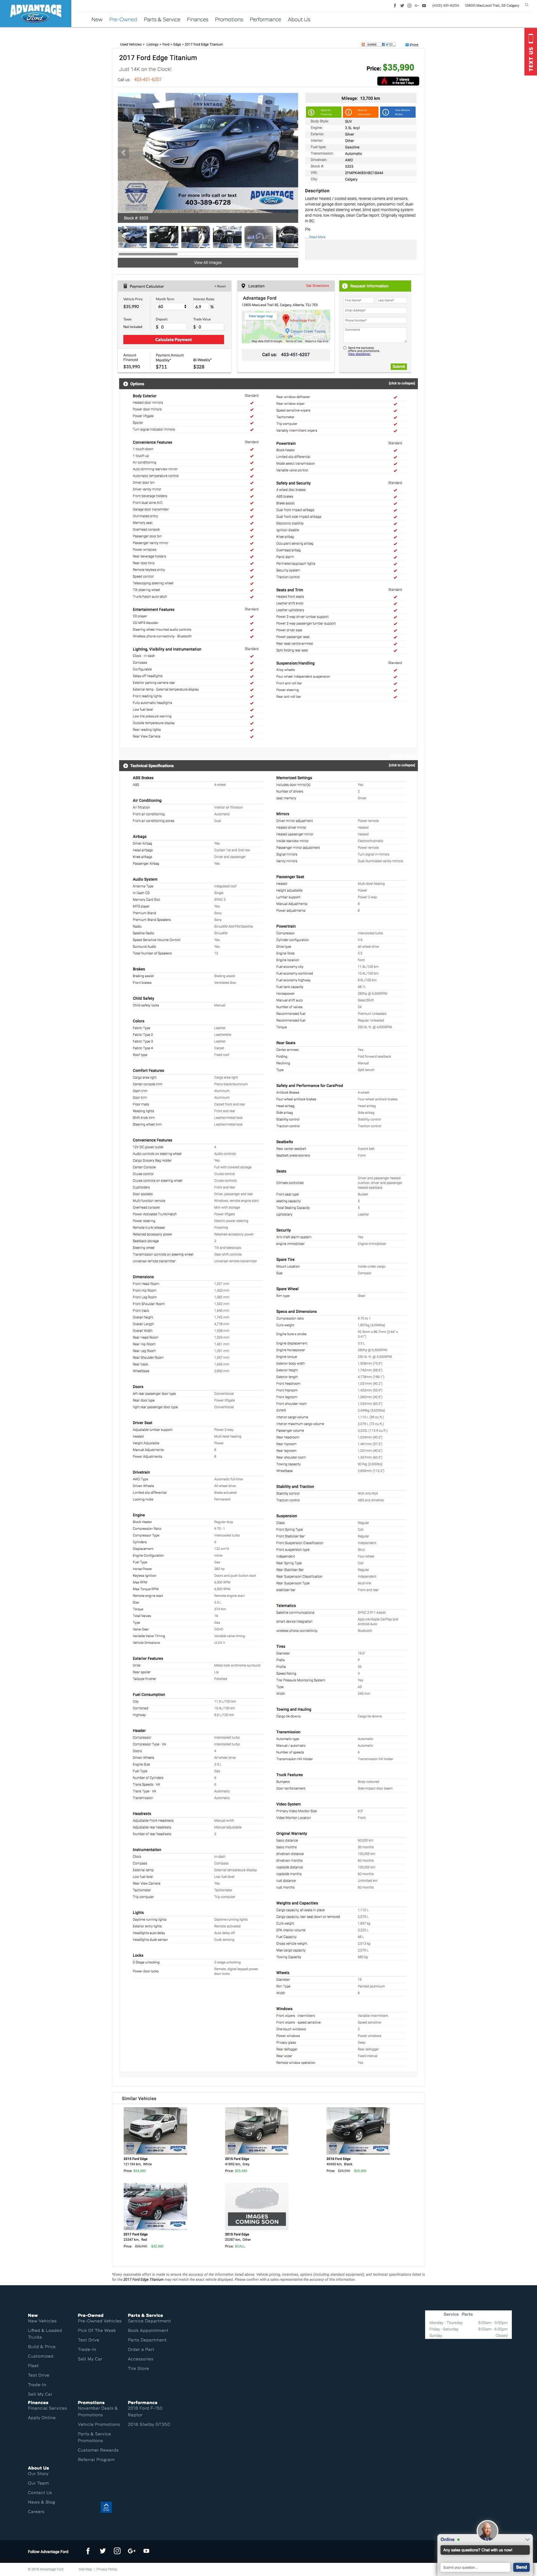car: (286, 148, 299, 159)
